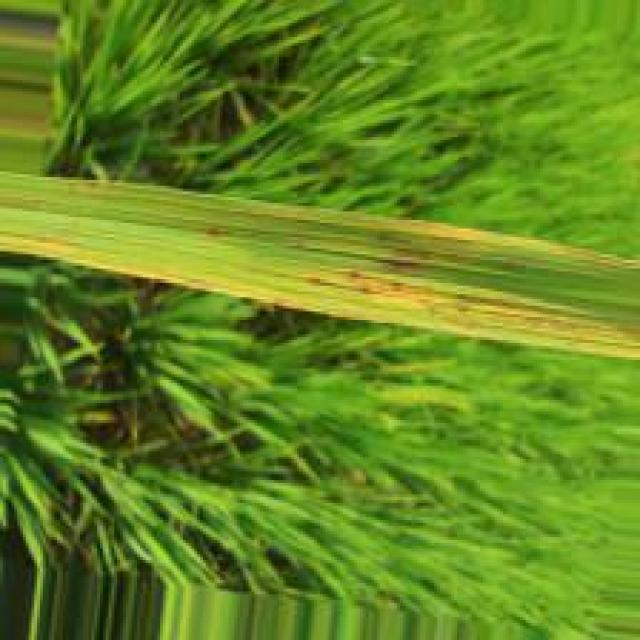Narrow_Brown_Leaf_Spot: (0, 233, 640, 360)
